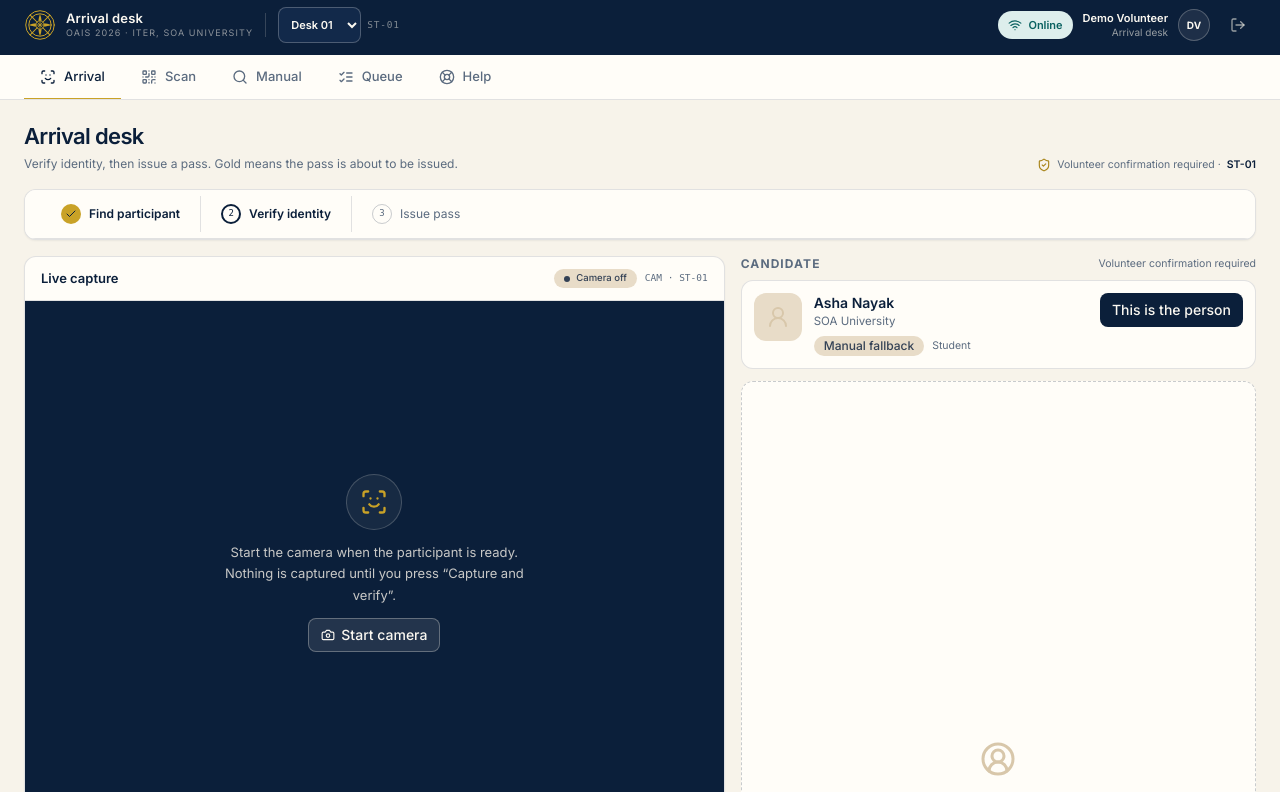
Test case: Arrival desk (§7.5) › loads a manual candidate but waits for explicit confirmation and a reason
Expected: the text "Asha Nayak" is shown, [814,294,894,311]
Expected: the text "Manual fallback" is shown, [814,336,924,356]
Click the button "This is the person": (1172, 310) [1100,293,1243,327]
(page scrolled)
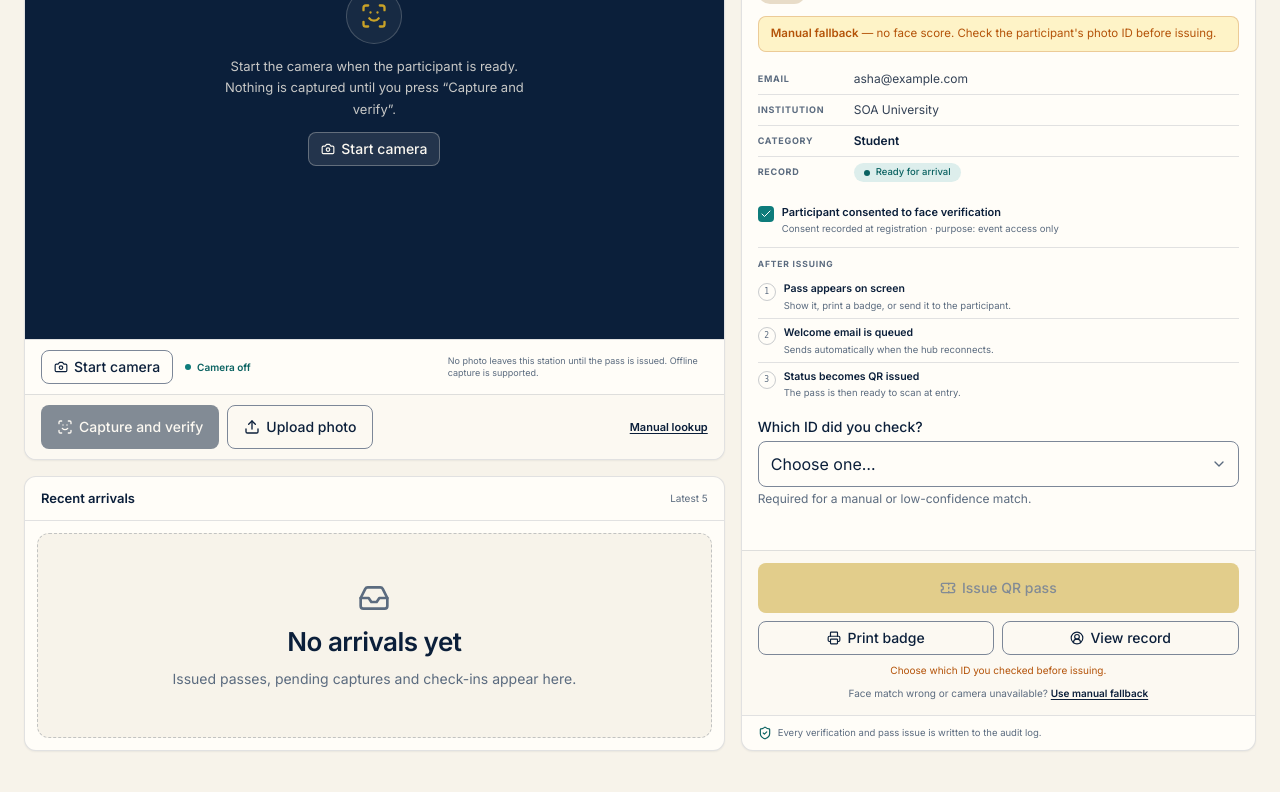
Now the button "Issue QR pass" is disabled, box [758,563,1239,613]
Select "Photo ID checked" in the dropdown labelled "Which ID did you check?": (998, 464) [758,441,1239,487]
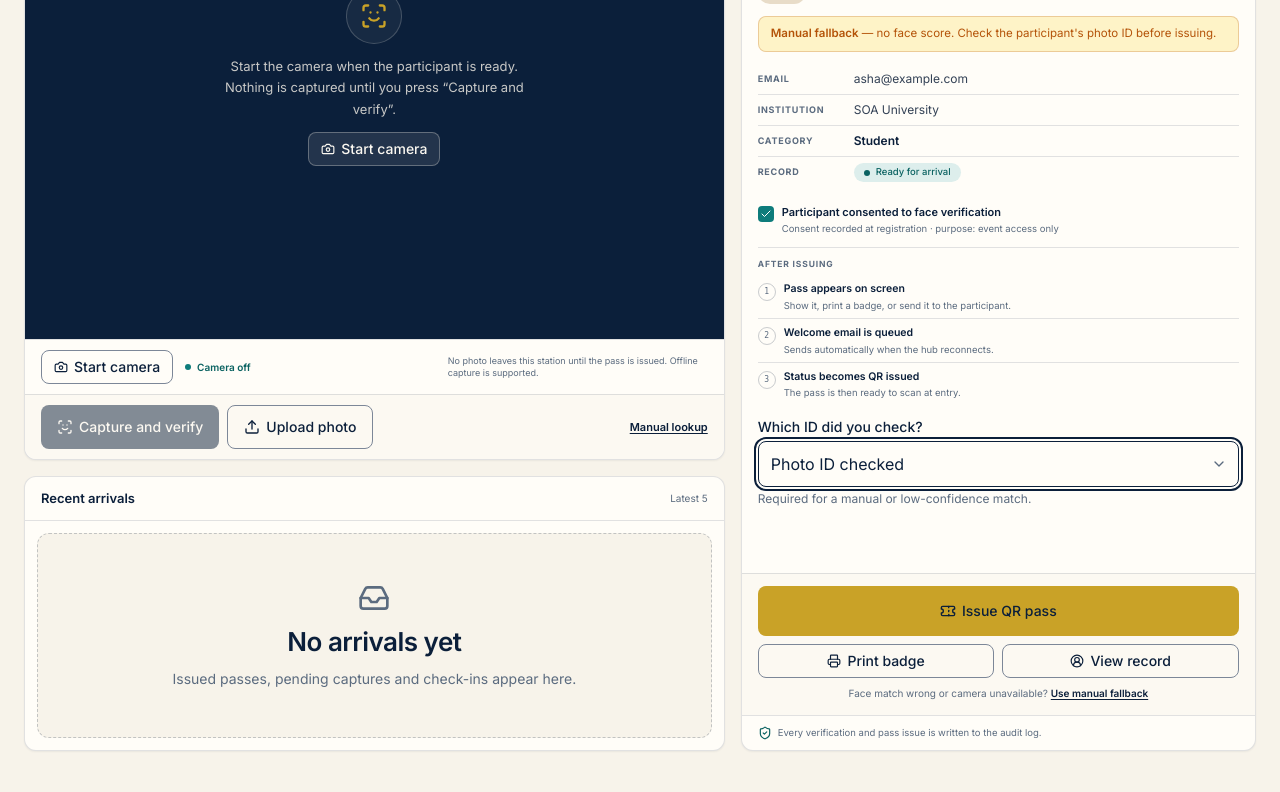
Now the button "Issue QR pass" is enabled, box [758,586,1239,636]
